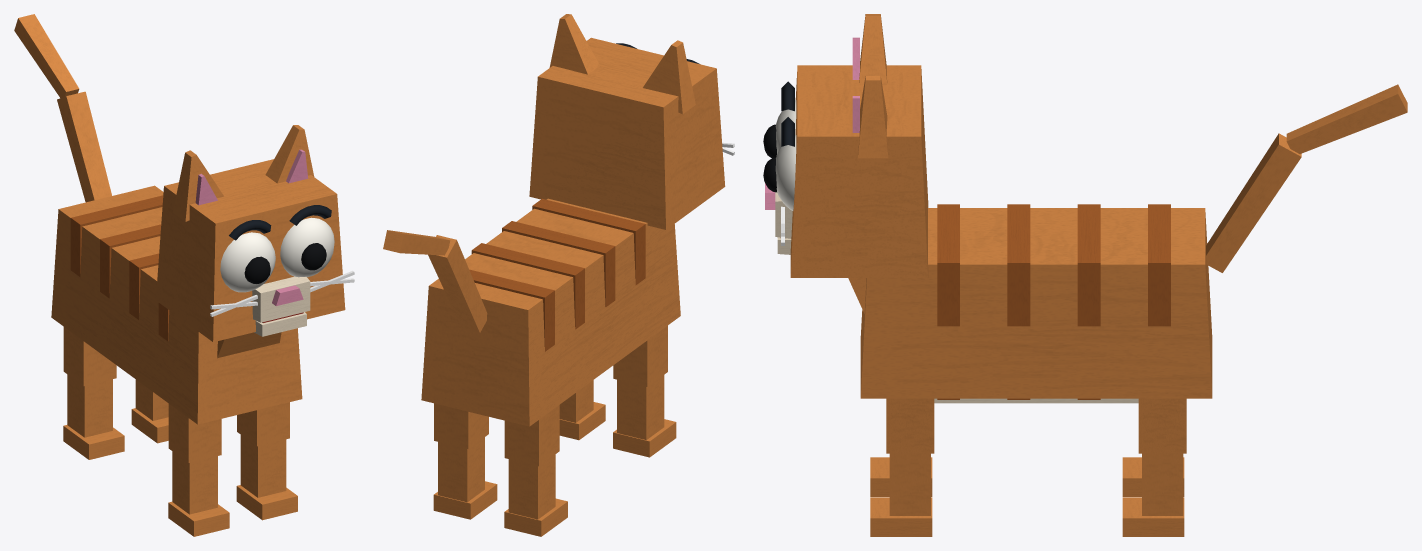
Rendered from cat.glb.
3 views of the same model, side by side, from view 1: azimuth 30°, elevation 25°; view 2: azimuth 150°, elevation 25°; view 3: azimuth 270°, elevation 25° (orthographic). The views are drawn at different scales.
Parts seen in each view (by area): view 1: body, head, kneeFL, kneeFR, kneeBR, tail, legFR, tail2, legBR, earR, earL, legFL (+3 smaller); view 2: body, head, kneeBR, kneeFR, kneeBL, tail, legBR, legFR, earR, legBL, kneeFL, earL (+1 smaller); view 3: body, head, tail, kneeFL, kneeBL, tail2, legFL, legBL, earL, earR, kneeFR, kneeBR.
Part boxes in pixels (box(x1,y1,x2,y2)): body: box(51, 185, 302, 424); head: box(156, 159, 354, 342); kneeFL: box(236, 435, 297, 520); kneeFR: box(168, 451, 229, 536); kneeBR: box(63, 374, 124, 459); tail: box(57, 91, 111, 202); legFR: box(168, 404, 221, 462); tail2: box(14, 14, 79, 97); legBR: box(63, 327, 116, 385); earR: box(172, 150, 223, 221); earL: box(265, 125, 314, 183); legFL: box(237, 402, 289, 446); body: box(421, 198, 680, 426); head: box(529, 37, 734, 229); kneeBR: box(504, 454, 567, 536); kneeFR: box(613, 375, 676, 457); kneeBL: box(433, 437, 497, 519); tail: box(428, 235, 487, 332); legBR: box(504, 405, 559, 466); legFR: box(613, 325, 667, 386); earR: box(643, 40, 695, 114); legBL: box(434, 403, 488, 448); kneeFL: box(559, 380, 605, 440); earL: box(549, 14, 599, 74); body: box(860, 204, 1212, 403); head: box(763, 65, 928, 277); tail: box(1206, 133, 1301, 272); kneeFL: box(870, 453, 932, 536); kneeBL: box(1122, 453, 1184, 536); tail2: box(1286, 84, 1407, 153); legFL: box(886, 398, 934, 453); legBL: box(1138, 398, 1186, 453); earL: box(852, 76, 888, 158); earR: box(852, 14, 887, 85); kneeFR: box(870, 457, 932, 496); kneeBR: box(1122, 457, 1184, 496).
Size of the model in its own units: 0.2597 by 0.6649 by 0.843.
Materials: 20 (17 with a texture image).
